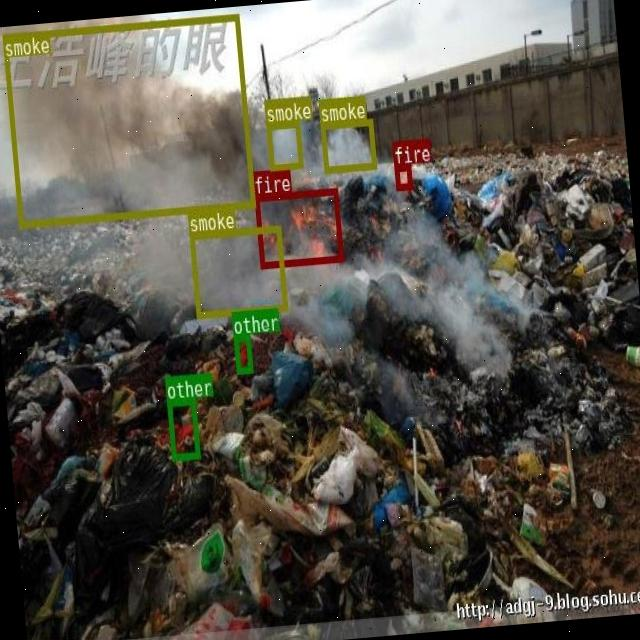fire: (253, 187, 342, 267), (392, 163, 410, 189)
smoke: (2, 13, 255, 227), (189, 224, 286, 317), (320, 118, 375, 172), (264, 120, 302, 170)
